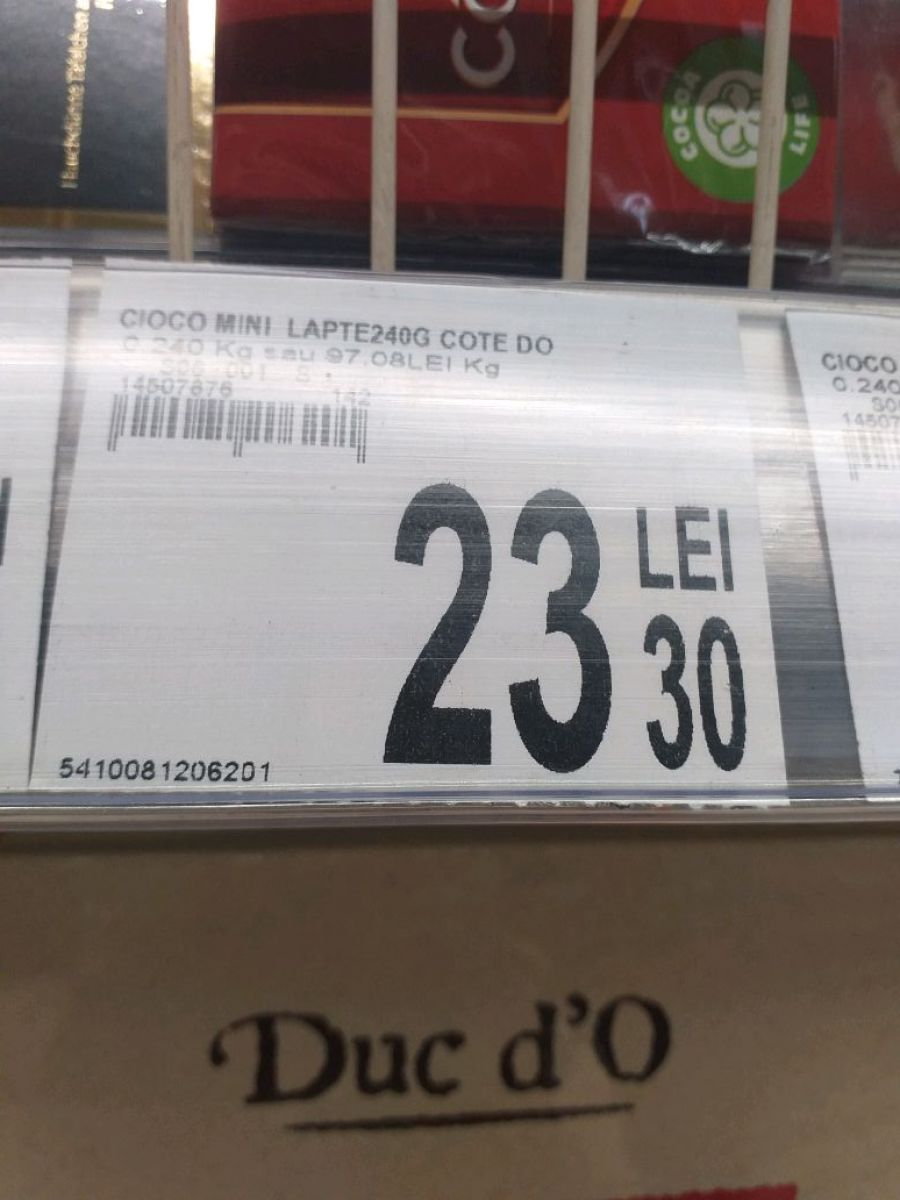bardcode: (58, 752, 278, 793)
list: (32, 249, 793, 806)
name: (117, 298, 558, 358)
price: (380, 474, 759, 782)
